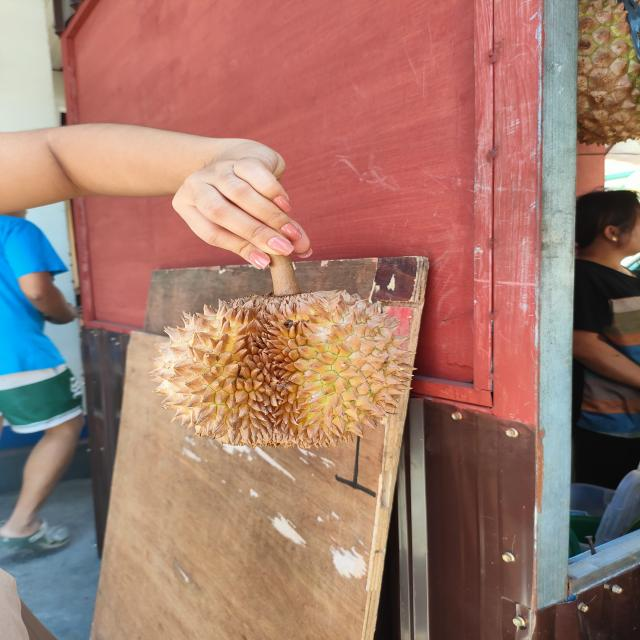mature: (146, 286, 418, 452)
